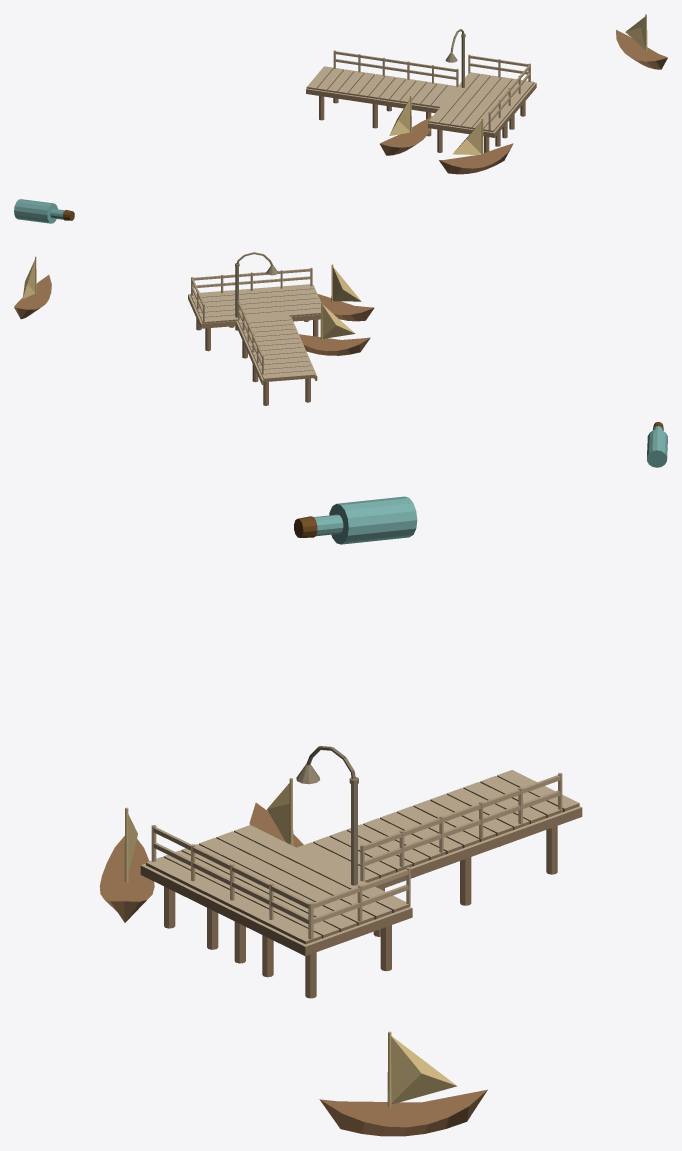
The model's file is dock.glb.
3 views of the same model, one above another, from view 1: azimuth 30°, elevation 25°; view 2: azimuth 150°, elevation 25°; view 3: azimuth 270°, elevation 25° (orthographic). The views are drawn at different scales.
Visible parts, largest first — view 1: DG_Pier_Jetty, DG_Pier_Railing, DG_Boat_Catamaran, DG_Boat_Catamaran.002, DG_Boat_Catamaran.001, Bottle_New, DG_Lamp_Post; view 2: DG_Pier_Jetty, DG_Boat_Catamaran.002, DG_Pier_Railing, DG_Boat_Catamaran, DG_Boat_Catamaran.001, Bottle_New, DG_Lamp_Post; view 3: DG_Pier_Jetty, DG_Pier_Railing, DG_Boat_Catamaran.001, Bottle_New, DG_Boat_Catamaran, DG_Boat_Catamaran.002, DG_Lamp_Post.
Part boxes in pixels (x1,y1,x2,y2): DG_Pier_Jetty: (306, 66, 536, 152); DG_Pier_Railing: (333, 50, 530, 129); DG_Boat_Catamaran: (439, 118, 513, 174); DG_Boat_Catamaran.002: (380, 95, 432, 155); DG_Boat_Catamaran.001: (616, 14, 667, 69); Bottle_New: (14, 199, 74, 223); DG_Lamp_Post: (445, 29, 465, 87); DG_Pier_Jetty: (188, 284, 320, 405); DG_Boat_Catamaran.002: (299, 302, 370, 355); DG_Pier_Railing: (191, 267, 312, 374); DG_Boat_Catamaran: (317, 264, 374, 321); DG_Boat_Catamaran.001: (14, 256, 51, 319); Bottle_New: (647, 422, 667, 467); DG_Lamp_Post: (235, 252, 278, 330); DG_Pier_Jetty: (140, 770, 582, 998); DG_Pier_Railing: (151, 773, 562, 939); DG_Boat_Catamaran.001: (319, 1031, 487, 1136); Bottle_New: (294, 496, 417, 544); DG_Boat_Catamaran: (99, 807, 154, 922); DG_Boat_Catamaran.002: (249, 778, 303, 847); DG_Lamp_Post: (296, 746, 358, 885).
Size of the model in its own units: 39.16 by 5.77 by 12.75.
